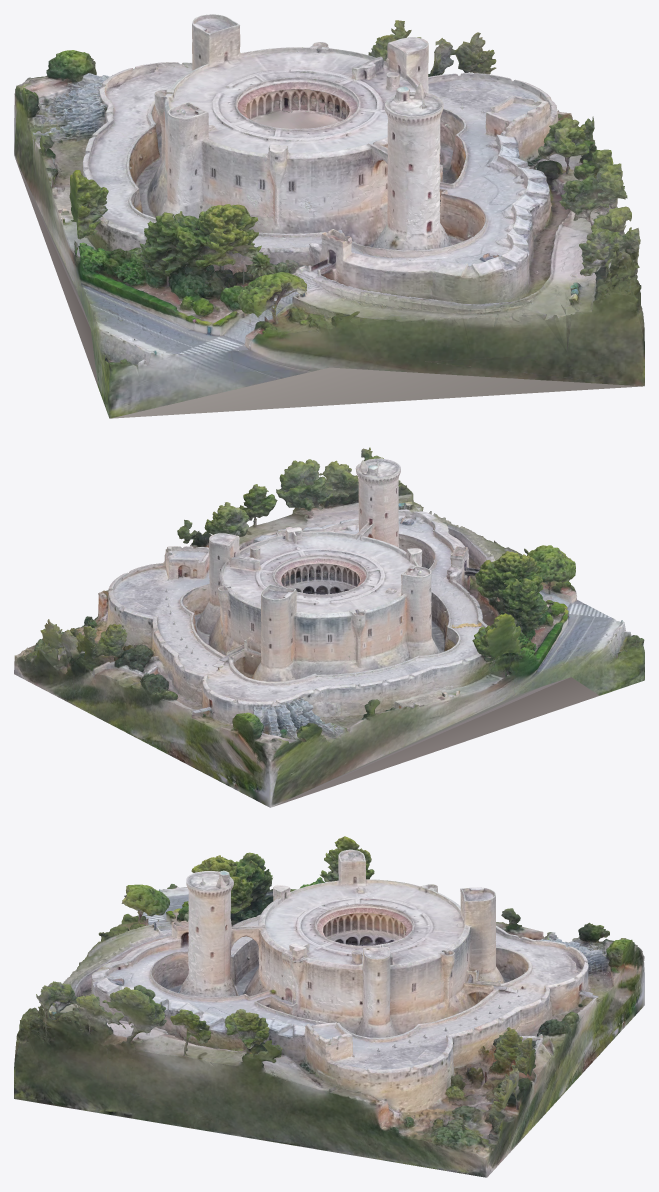
File: sf-bellver-castle-70ef07.glb
3 renders of one model, top to bottom at view 1: azimuth 30°, elevation 25°; view 2: azimuth 150°, elevation 25°; view 3: azimuth 270°, elevation 25°, orthographic. The views are drawn at different scales.
Visible parts, largest first — view 1: meshNode_Material_u1_v1_0; view 2: meshNode_Material_u1_v1_0; view 3: meshNode_Material_u1_v1_0.
Boxes of the visible parts, x1,y1,x2,y2 form: meshNode_Material_u1_v1_0: [14, 14, 644, 418]; meshNode_Material_u1_v1_0: [14, 447, 644, 807]; meshNode_Material_u1_v1_0: [14, 836, 644, 1177].
Bounding box in the file's own units: 49.17 × 17.19 × 52.66.
Materials: 1 (1 with a texture image).
